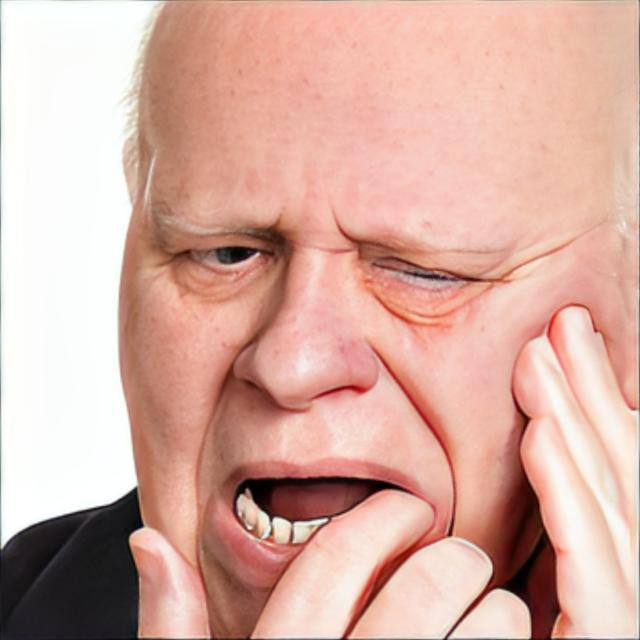sad: (116, 2, 640, 640)
